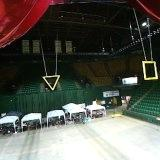Yellow_Square_GShape: (143, 60, 157, 81)
Yellow_Triangle_Gshape: (44, 74, 62, 91)
